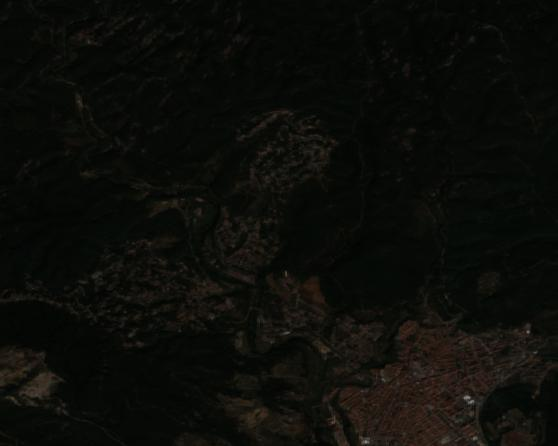Poblacion: (231, 267, 554, 446)
